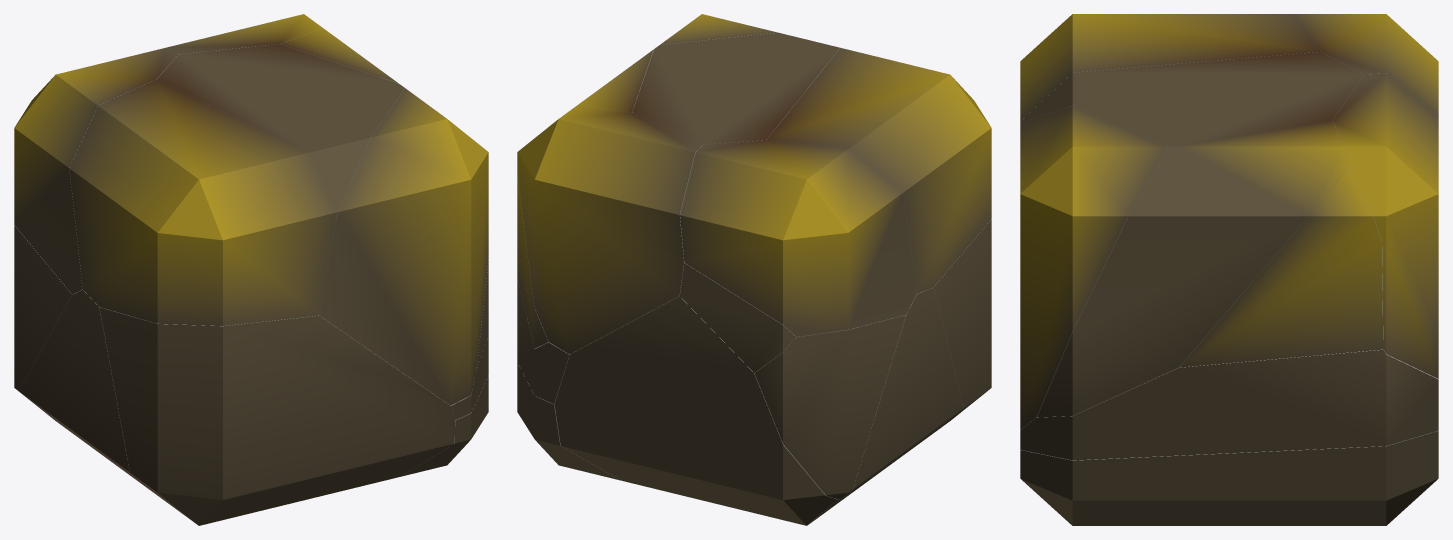
Rendered from Small_create.fbx.
The picture shows the model from 3 angles, left to right: view 1: azimuth 30°, elevation 25°; view 2: azimuth 150°, elevation 25°; view 3: azimuth 270°, elevation 25°; orthographic projection. The views are drawn at different scales.
Parts seen in each view (by area): view 1: Map1_smallcrate.mc_cell.004, Map1_smallcrate.mc_cell.005, Map1_smallcrate.mc_cell.012, Map1_smallcrate.mc_cell.011, Map1_smallcrate.mc_cell.014, Map1_smallcrate.mc_cell.006, Map1_smallcrate.mc_cell.003, Map1_smallcrate.mc_cell.007, Map1_smallcrate.mc_cell.002, Map1_smallcrate.mc_cell.013, Map1_smallcrate.mc_cell.010; view 2: Map1_smallcrate.mc_cell.014, Map1_smallcrate.mc_cell, Map1_smallcrate.mc_cell.007, Map1_smallcrate.mc_cell.005, Map1_smallcrate.mc_cell.011, Map1_smallcrate.mc_cell.003, Map1_smallcrate.mc_cell.006, Map1_smallcrate.mc_cell.004, Map1_smallcrate.mc_cell.009, Map1_smallcrate.mc_cell.010, Map1_smallcrate.mc_cell.013, Map1_smallcrate.mc_cell.002 (+2 smaller); view 3: Map1_smallcrate.mc_cell.002, Map1_smallcrate.mc_cell.010, Map1_smallcrate.mc_cell.013, Map1_smallcrate.mc_cell.012, Map1_smallcrate.mc_cell.001, Map1_smallcrate.mc_cell.011, Map1_smallcrate.mc_cell.007, Map1_smallcrate.mc_cell.005, Map1_smallcrate.mc_cell.014, Map1_smallcrate.mc_cell.008.
Part boxes in pixels (<box>): Map1_smallcrate.mc_cell.004: <box>99,307,454,525</box>; Map1_smallcrate.mc_cell.005: <box>69,79,336,325</box>; Map1_smallcrate.mc_cell.012: <box>319,88,488,405</box>; Map1_smallcrate.mc_cell.011: <box>157,44,404,220</box>; Map1_smallcrate.mc_cell.014: <box>14,47,178,294</box>; Map1_smallcrate.mc_cell.006: <box>19,290,176,509</box>; Map1_smallcrate.mc_cell.003: <box>14,225,72,392</box>; Map1_smallcrate.mc_cell.007: <box>167,14,322,54</box>; Map1_smallcrate.mc_cell.002: <box>280,28,488,367</box>; Map1_smallcrate.mc_cell.013: <box>401,376,488,476</box>; Map1_smallcrate.mc_cell.010: <box>448,335,488,420</box>; Map1_smallcrate.mc_cell.014: <box>680,140,916,336</box>; Map1_smallcrate.mc_cell: <box>554,296,837,525</box>; Map1_smallcrate.mc_cell.007: <box>517,105,703,354</box>; Map1_smallcrate.mc_cell.005: <box>766,48,991,293</box>; Map1_smallcrate.mc_cell.011: <box>632,32,839,144</box>; Map1_smallcrate.mc_cell.003: <box>754,315,905,499</box>; Map1_smallcrate.mc_cell.006: <box>806,288,963,525</box>; Map1_smallcrate.mc_cell.004: <box>933,219,991,432</box>; Map1_smallcrate.mc_cell.009: <box>680,263,796,372</box>; Map1_smallcrate.mc_cell.010: <box>517,279,569,404</box>; Map1_smallcrate.mc_cell.013: <box>517,363,620,480</box>; Map1_smallcrate.mc_cell.002: <box>578,49,653,112</box>; Map1_smallcrate.mc_cell.002: <box>1037,121,1347,417</box>; Map1_smallcrate.mc_cell.010: <box>1020,349,1438,460</box>; Map1_smallcrate.mc_cell.013: <box>1020,430,1438,525</box>; Map1_smallcrate.mc_cell.012: <box>1020,106,1167,429</box>; Map1_smallcrate.mc_cell.001: <box>1179,167,1383,367</box>; Map1_smallcrate.mc_cell.011: <box>1020,52,1364,149</box>; Map1_smallcrate.mc_cell.007: <box>1332,73,1438,334</box>; Map1_smallcrate.mc_cell.005: <box>1020,14,1319,121</box>; Map1_smallcrate.mc_cell.014: <box>1293,14,1438,115</box>; Map1_smallcrate.mc_cell.008: <box>1382,242,1438,378</box>.
Bounding box in the file's own units: 400 × 400 × 400.
